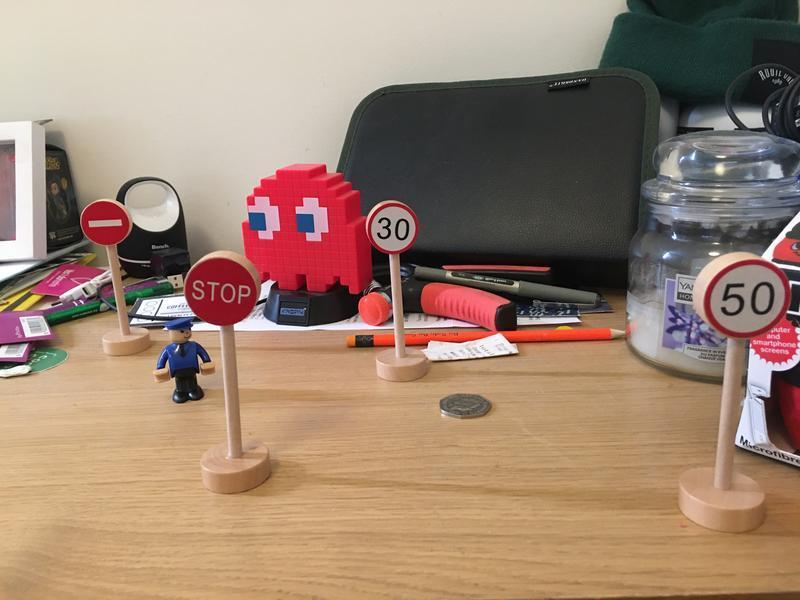Traffic_Sign_30: (367, 204, 418, 253)
Traffic_Sign_50: (704, 264, 787, 334)
Traffic_Sign_No_Entry: (80, 201, 132, 244)
Traffic_Sign_Stop: (183, 255, 259, 326)
person: (154, 317, 216, 408)
